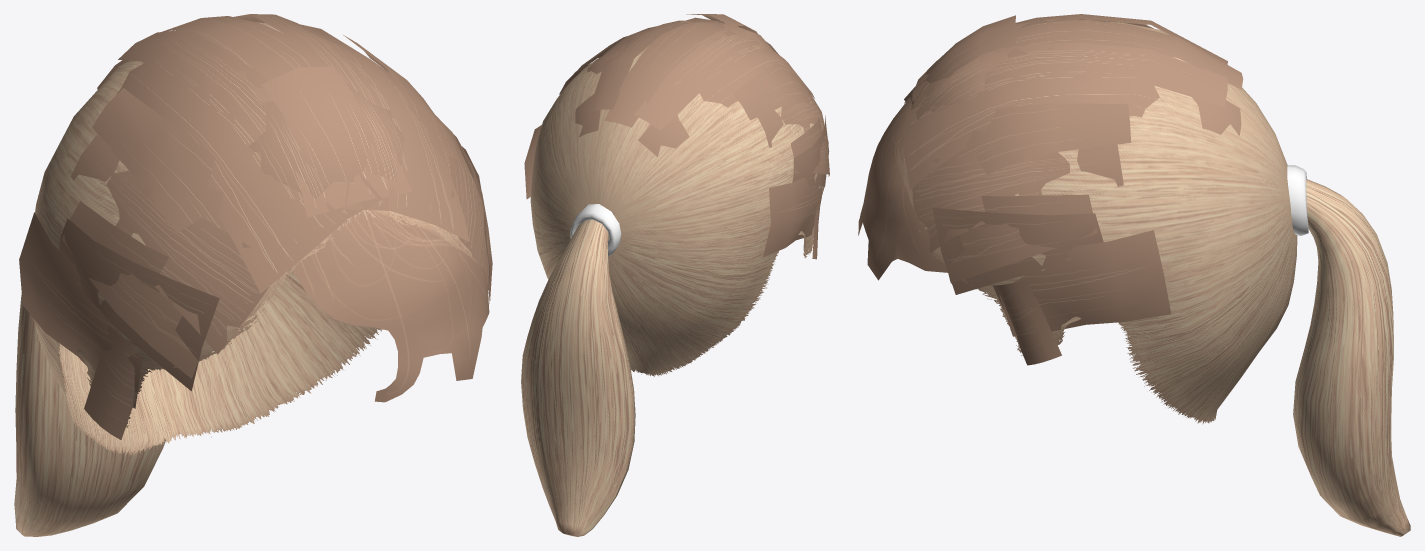
File: hair_001.obj
3 renders of one model, left to right at view 1: azimuth 30°, elevation 25°; view 2: azimuth 150°, elevation 25°; view 3: azimuth 270°, elevation 25°, orthographic. The views are drawn at different scales.
Size of the model in its own units: 17.76 by 27 by 26.08.
